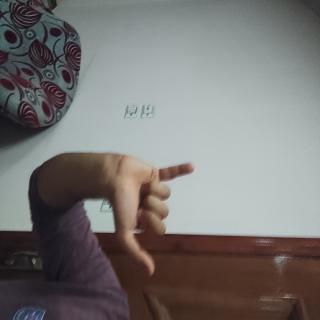YA: (110, 161, 210, 300)
